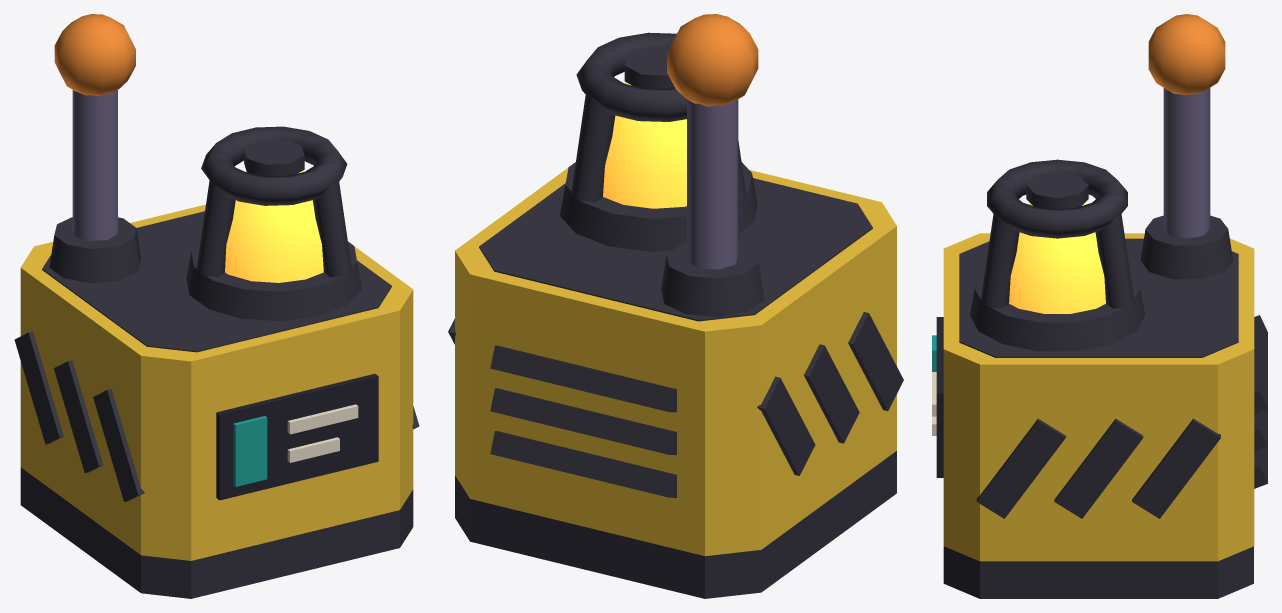
The model's file is recovery_beacon.glb.
The picture shows the model from 3 angles, left to right: view 1: azimuth 30°, elevation 25°; view 2: azimuth 150°, elevation 25°; view 3: azimuth 270°, elevation 25°; orthographic projection. The views are drawn at different scales.
Parts seen in each view (by area): view 1: beacon_Yellow, beacon_Graphite, beacon_DecalDark, beacon_Emissive, beacon_PurpleGrey, beacon_Orange, beacon_Teal, beacon_CreamHull; view 2: beacon_Yellow, beacon_Graphite, beacon_PurpleGrey, beacon_Emissive, beacon_Orange; view 3: beacon_Graphite, beacon_Yellow, beacon_PurpleGrey, beacon_Emissive, beacon_Orange, beacon_DecalDark.
Boxes of the visible parts, box(x1,y1,x2,y2) form: beacon_Yellow: box(20, 204, 413, 560); beacon_Graphite: box(14, 126, 419, 598); beacon_DecalDark: box(216, 373, 378, 500); beacon_Emissive: box(225, 171, 323, 282); beacon_PurpleGrey: box(72, 90, 117, 240); beacon_Orange: box(54, 14, 135, 96); beacon_Teal: box(233, 416, 267, 486); beacon_CreamHull: box(287, 404, 358, 462); beacon_Yellow: box(455, 167, 896, 556); beacon_Graphite: box(448, 32, 903, 598); beacon_PurpleGrey: box(687, 99, 738, 269); beacon_Emissive: box(603, 82, 686, 208); beacon_Orange: box(667, 14, 758, 106); beacon_Graphite: box(943, 159, 1267, 598); beacon_Yellow: box(943, 233, 1254, 561); beacon_PurpleGrey: box(1163, 88, 1210, 238); beacon_Emissive: box(1009, 203, 1105, 313); beacon_Orange: box(1148, 14, 1225, 94); beacon_DecalDark: box(936, 317, 943, 477).
Size of the model in its own units: 0.124 by 0.204 by 0.1298.
